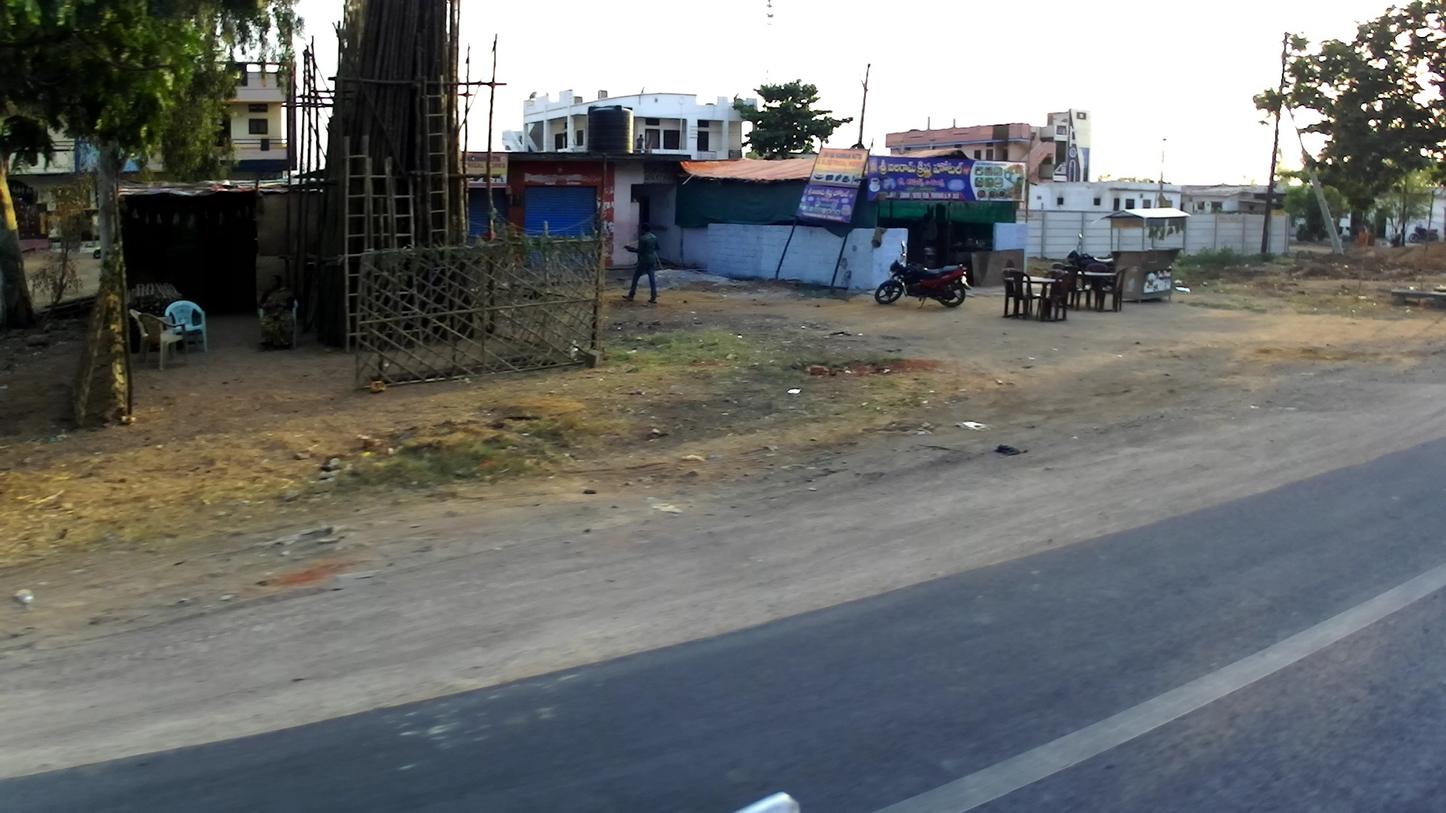motorcycle: (872, 242, 974, 318), (1067, 231, 1115, 277), (1408, 222, 1438, 248)
person: (621, 218, 667, 310), (255, 275, 299, 354)
